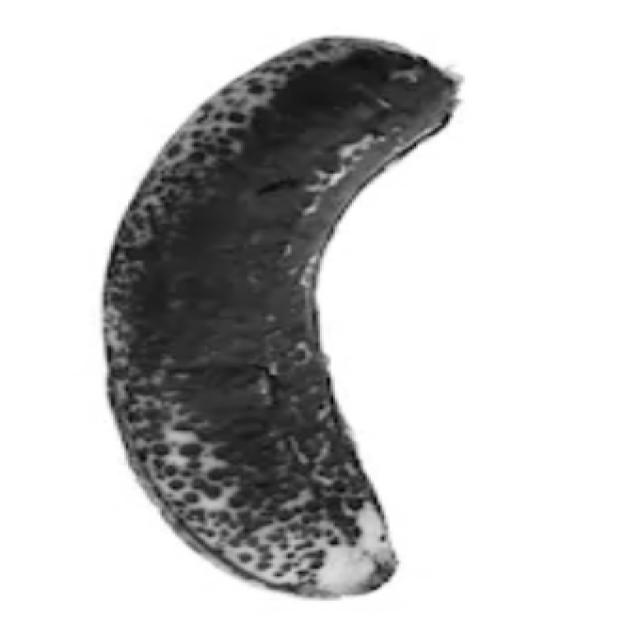Rotten: (90, 19, 474, 610)
